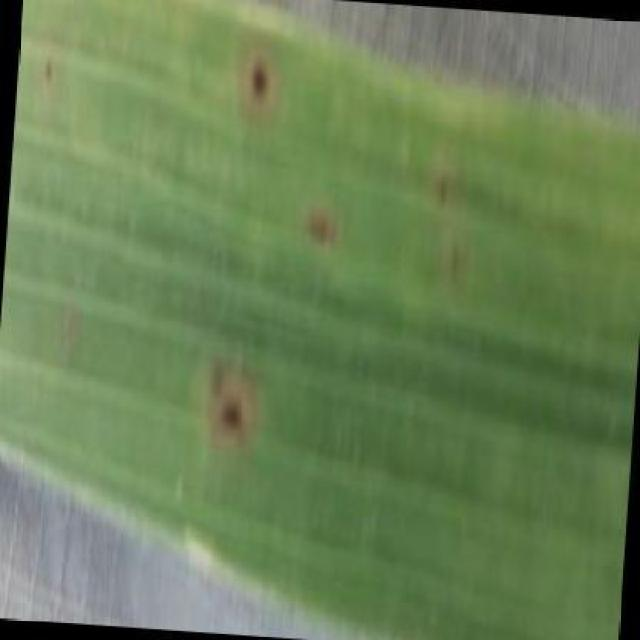Leaf_Blast: (293, 197, 352, 260), (205, 387, 258, 447), (237, 51, 281, 114), (435, 237, 476, 301), (190, 352, 236, 402), (233, 356, 281, 395), (29, 50, 66, 98), (425, 167, 461, 216), (111, 202, 143, 250), (204, 237, 238, 281), (465, 325, 497, 369), (177, 71, 211, 109), (392, 139, 420, 179), (64, 266, 93, 300)
